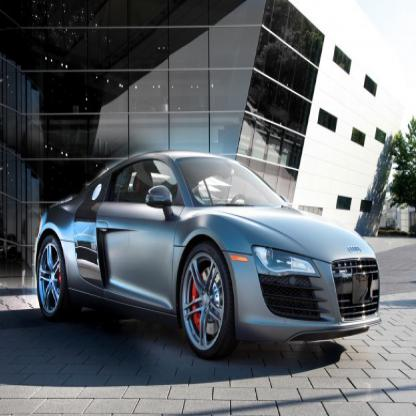Vehicle: (35, 150, 380, 361)
